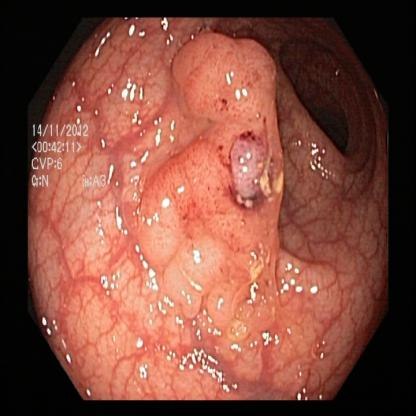Polyps: (176, 27, 287, 250)
